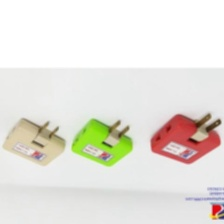three_eye_plug: (148, 107, 224, 167), (1, 115, 70, 170), (70, 115, 137, 170)
